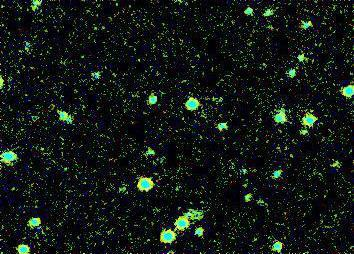star: (316, 149, 346, 179)
